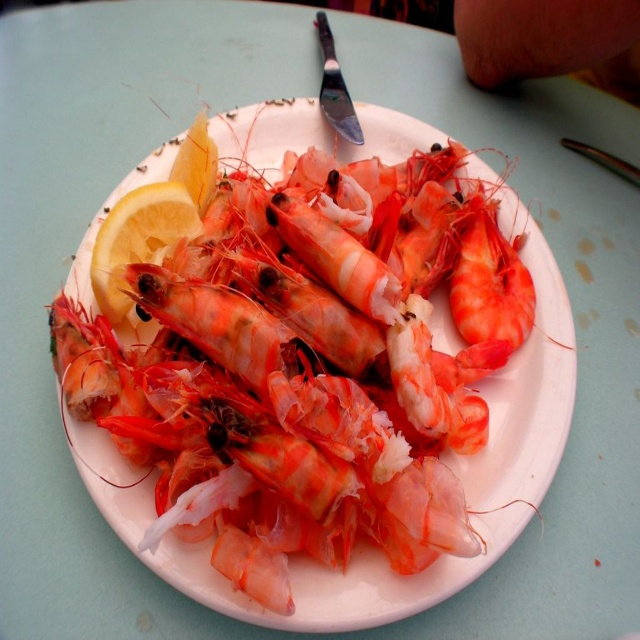Shrimp: (43, 71, 589, 617)
